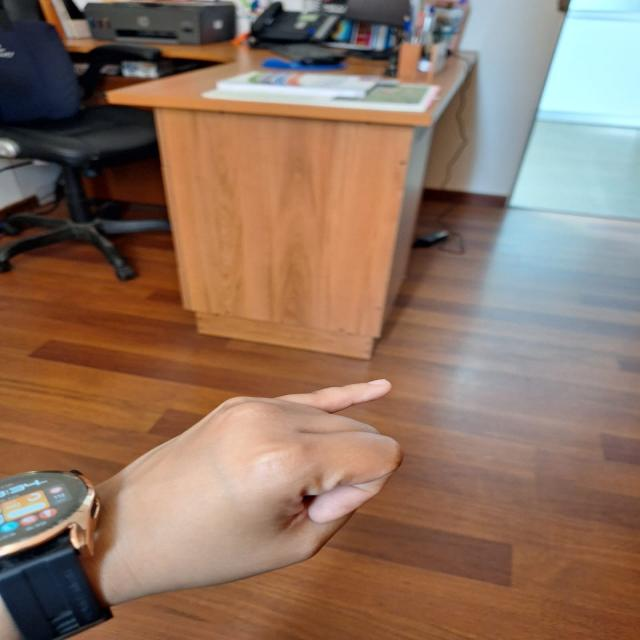Z: (132, 370, 415, 592)
